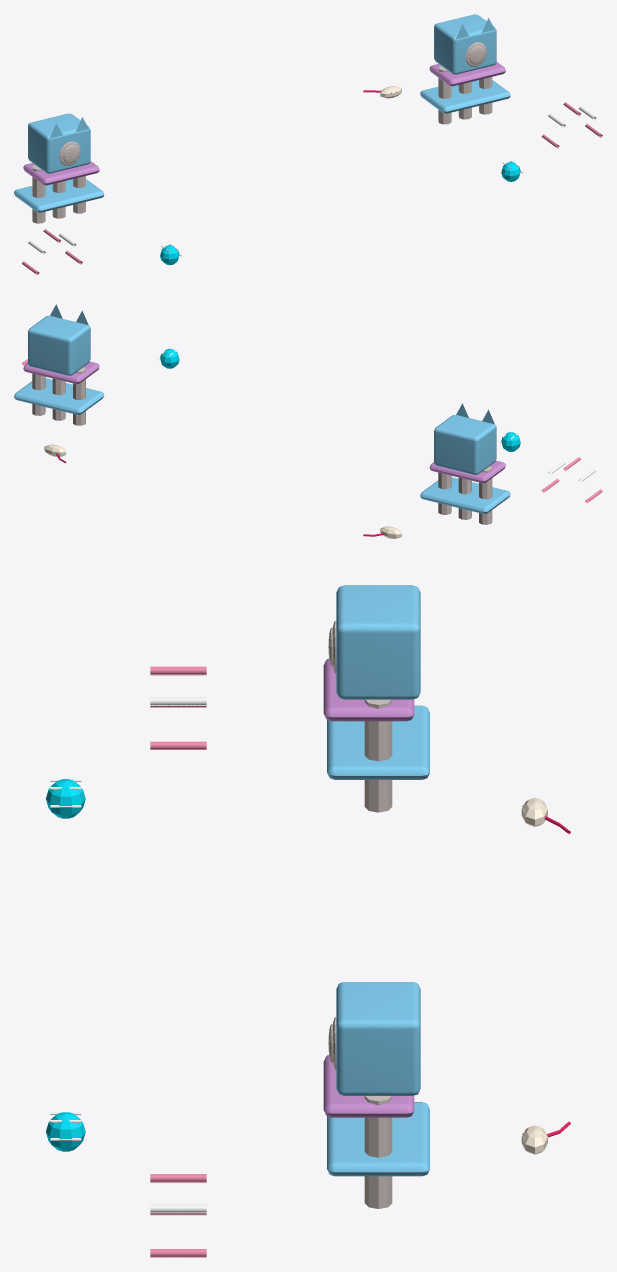
Rendered from luke_juguetes_r5.glb.
3 renders of one model, top to bottom at view 1: azimuth 30°, elevation 25°; view 2: azimuth 150°, elevation 25°; view 3: azimuth 270°, elevation 25°, orthographic. The views are drawn at different scales.
Parts seen in each view (by area): view 1: Felpa celeste, Sisal natural, Felpa lila, Sonajero turquesa, Lona rosa, Lona blanca; view 2: Felpa celeste, Sisal natural, Felpa lila, Sonajero turquesa, Ratón crema; view 3: Felpa celeste, Sisal natural, Felpa lila, Lona rosa, Sonajero turquesa, Lona blanca, Ratón crema.
Boxes of the visible parts, x1,y1,x2,y2 form: Felpa celeste: [14, 14, 510, 212]; Sisal natural: [32, 42, 492, 223]; Felpa lila: [23, 62, 505, 185]; Sonajero turquesa: [160, 162, 520, 265]; Lona rosa: [22, 102, 602, 275]; Lona blanca: [28, 106, 596, 256]; Felpa celeste: [14, 304, 510, 513]; Sisal natural: [32, 367, 492, 524]; Felpa lila: [23, 361, 505, 483]; Sonajero turquesa: [160, 349, 520, 451]; Ratón crema: [44, 444, 401, 538]; Felpa celeste: [327, 585, 429, 1176]; Sisal natural: [328, 620, 524, 1208]; Felpa lila: [323, 658, 414, 1117]; Lona rosa: [150, 666, 206, 1257]; Sonajero turquesa: [46, 779, 85, 1151]; Lona blanca: [50, 675, 206, 1213]; Ratón crema: [521, 797, 547, 1154].
Size of the model in its own units: 20.95 by 3.67 by 8.4.
